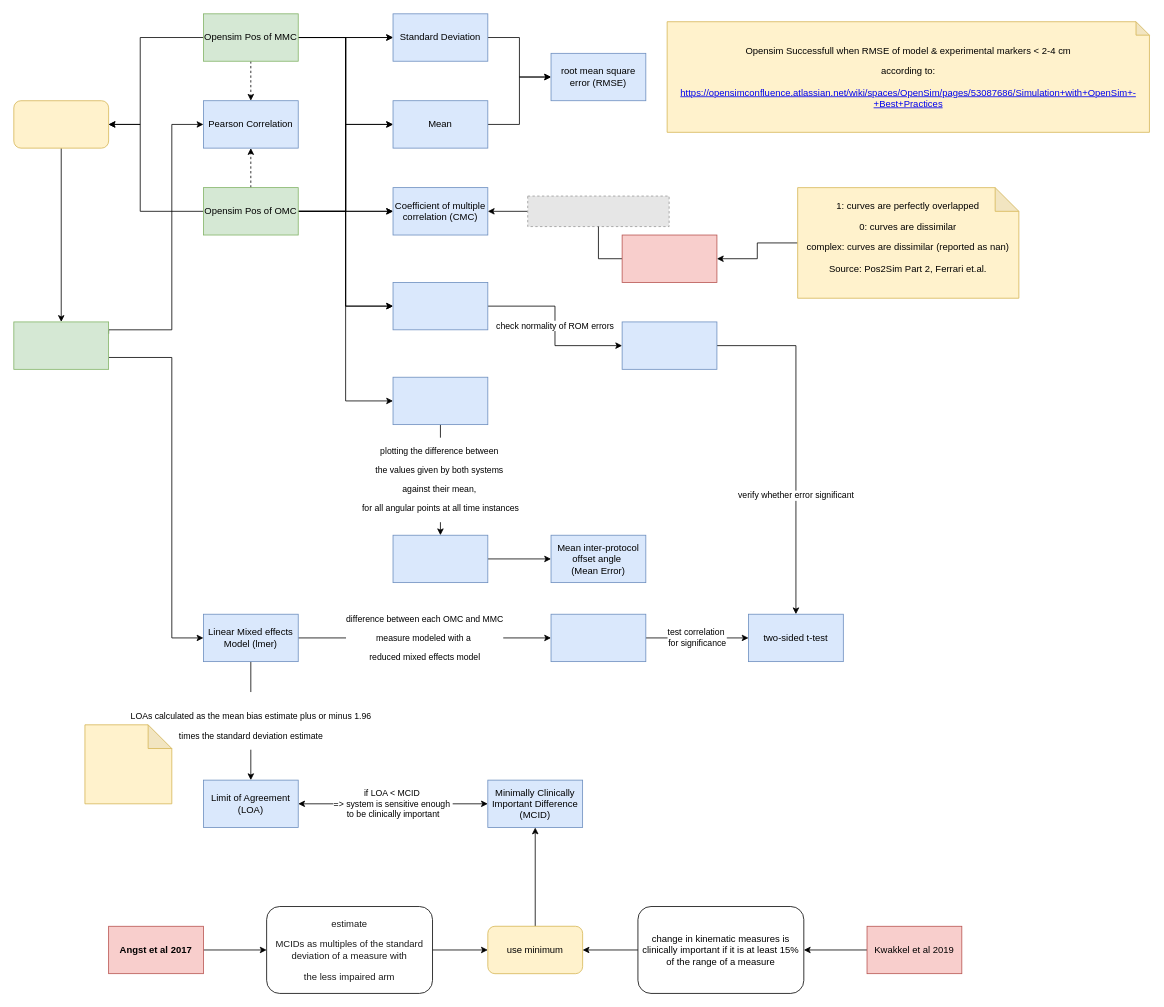
Image size: 1164x1007. Some labels were removed from this diagram. Grey dashed boxes stand in for pictures. Each missing label, with the centre of its shape:
"Analysis Pipeline" goes at (x=61, y=124).
"Bland-Altman analysis" goes at (x=440, y=558).
"Ferrari et al 2010" goes at (x=669, y=258).
"Murphy Measures" goes at (x=61, y=345).
"Paired ROM differences" goes at (x=440, y=400).
"pool un-/affected data for LOA calculation" goes at (x=128, y=764).
"Range of Motion Error (ROM Error)" goes at (x=440, y=306).
"Shapiro-Wilk Test" goes at (x=669, y=345).
"weighted estimate of mean bias" goes at (x=598, y=637).
